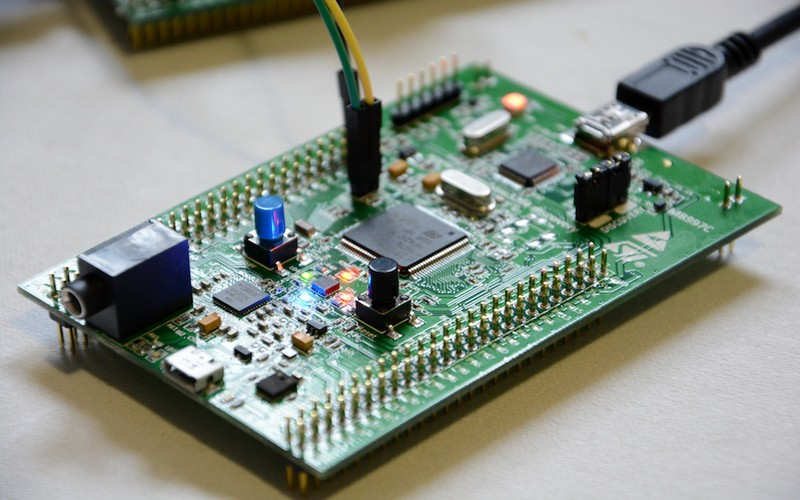Cirtuit-Board: (19, 54, 786, 468)
